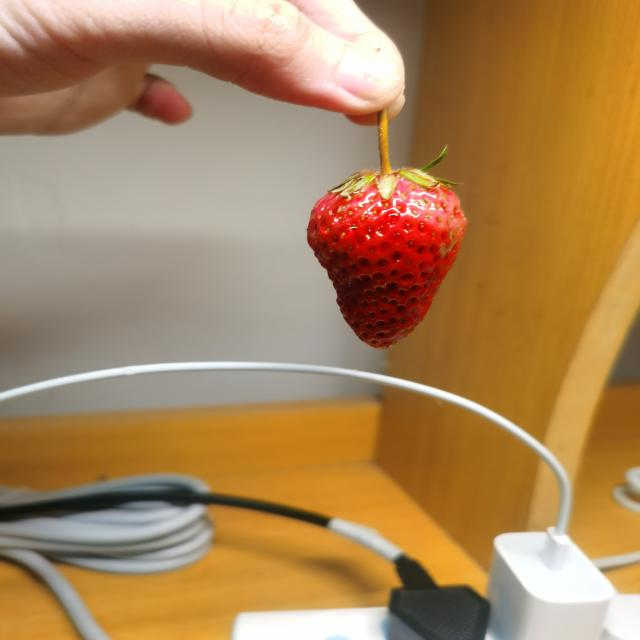stem: (377, 123, 392, 178)
strawberry: (307, 169, 468, 348)
